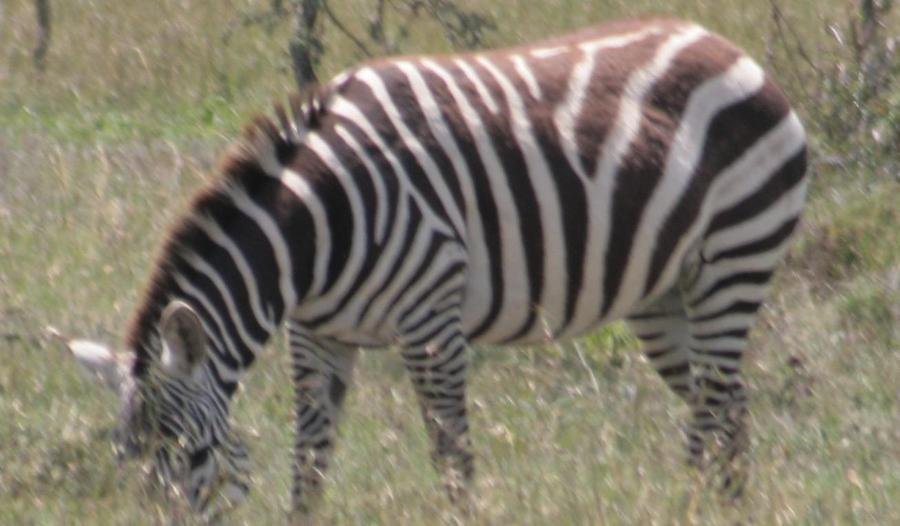zebra_plains: (265, 13, 842, 365)
